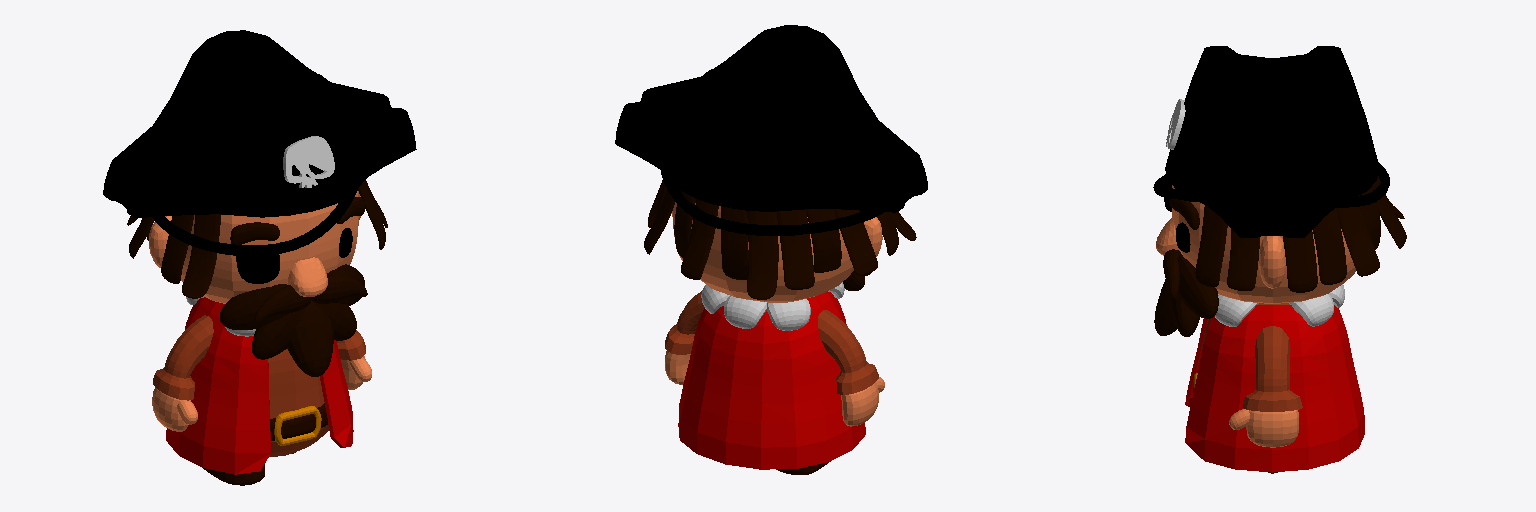
The model's file is Pirate1final.obj.
3 views of the same model, side by side, from view 1: azimuth 30°, elevation 25°; view 2: azimuth 150°, elevation 25°; view 3: azimuth 270°, elevation 25° (orthographic).
Visible parts, largest first — view 1: Pirate1_Head, Pirate1_Body, Pirate1_Right_Arm, Pirate1_Left_Arm, Pirate1_Right_Foot; view 2: Pirate1_Head, Pirate1_Body, Pirate1_Right_Arm, Pirate1_Left_Arm; view 3: Pirate1_Head, Pirate1_Body, Pirate1_Left_Arm.
Part boxes in pixels (x1,y1,x2,y2): Pirate1_Head: (103, 30, 416, 376); Pirate1_Body: (166, 296, 353, 474); Pirate1_Right_Arm: (152, 315, 213, 431); Pirate1_Left_Arm: (337, 330, 371, 389); Pirate1_Right_Foot: (203, 464, 264, 485); Pirate1_Head: (615, 25, 927, 302); Pirate1_Body: (678, 282, 865, 469); Pirate1_Right_Arm: (818, 310, 884, 426); Pirate1_Left_Arm: (665, 291, 704, 384); Pirate1_Head: (1153, 46, 1406, 336); Pirate1_Body: (1185, 284, 1364, 473); Pirate1_Left_Arm: (1229, 326, 1302, 447).
Size of the model in its own units: 2.35 by 3.19 by 1.82.